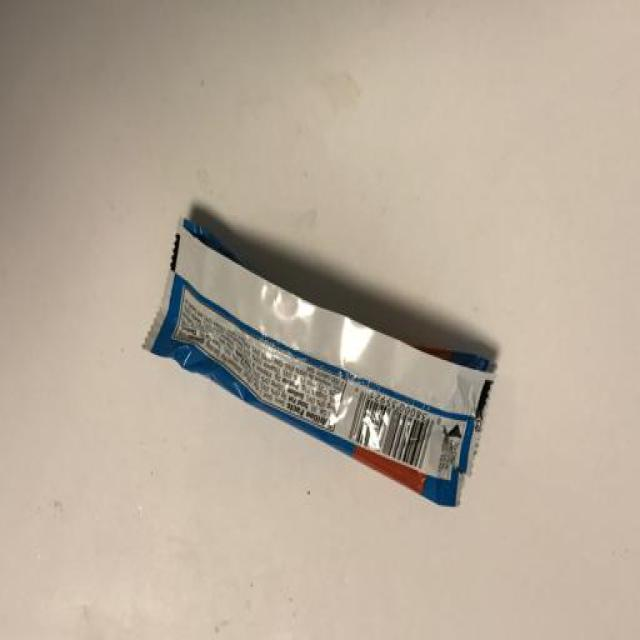Random Trash: (142, 217, 498, 507)
